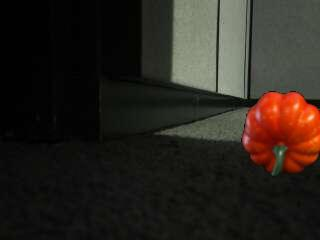Pumpkin: (240, 90, 320, 178)
